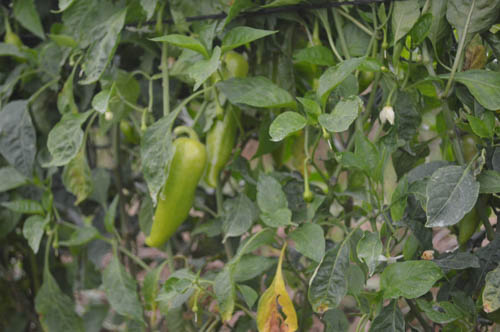ChiliPepper: (198, 52, 249, 190), (144, 139, 204, 245)
